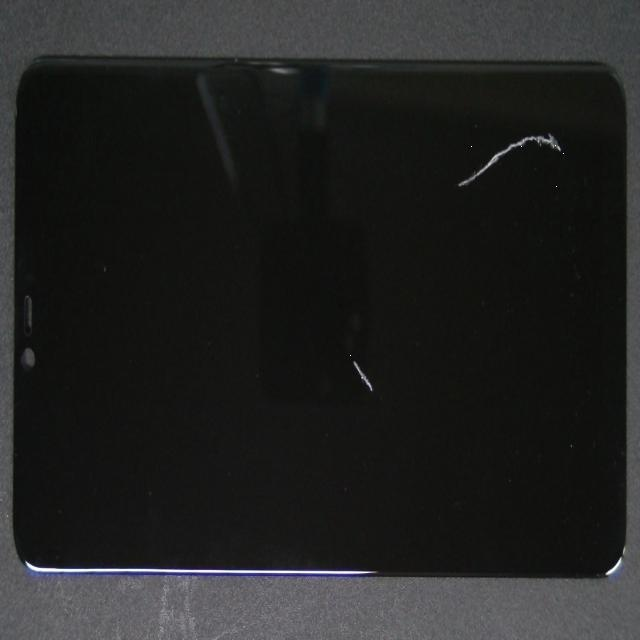scratch: (156, 175, 524, 587), (230, 62, 640, 286)
